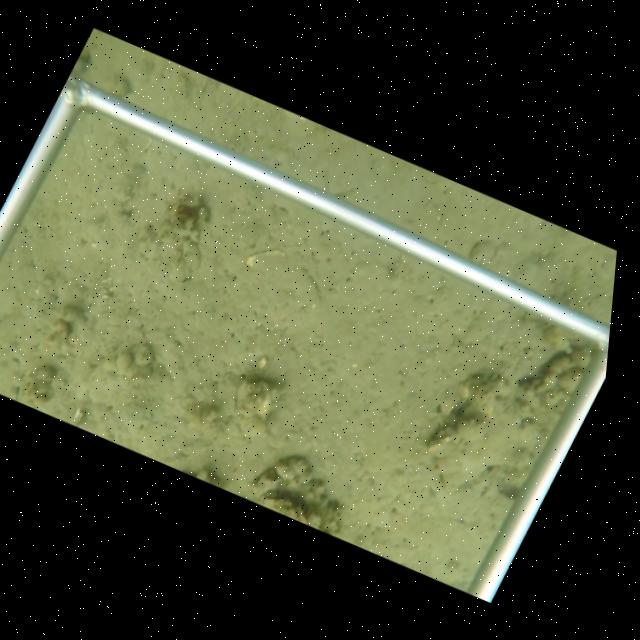Oyster-Open: (258, 491, 294, 507)
